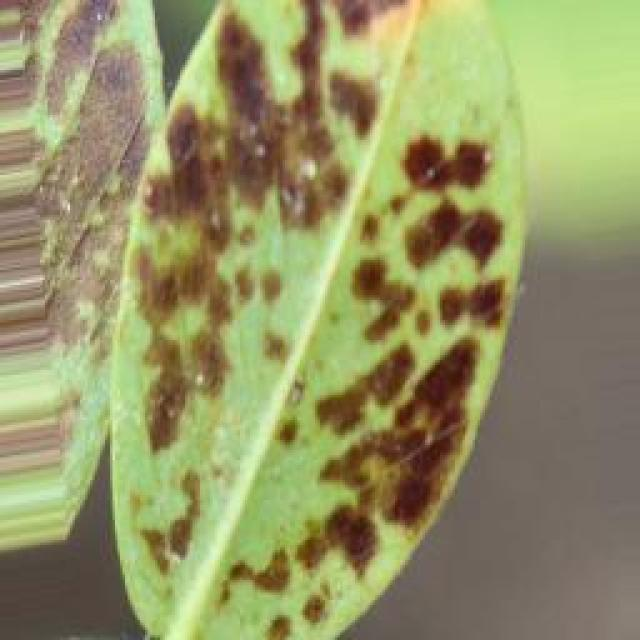Whitefly: (13, 0, 523, 640)
